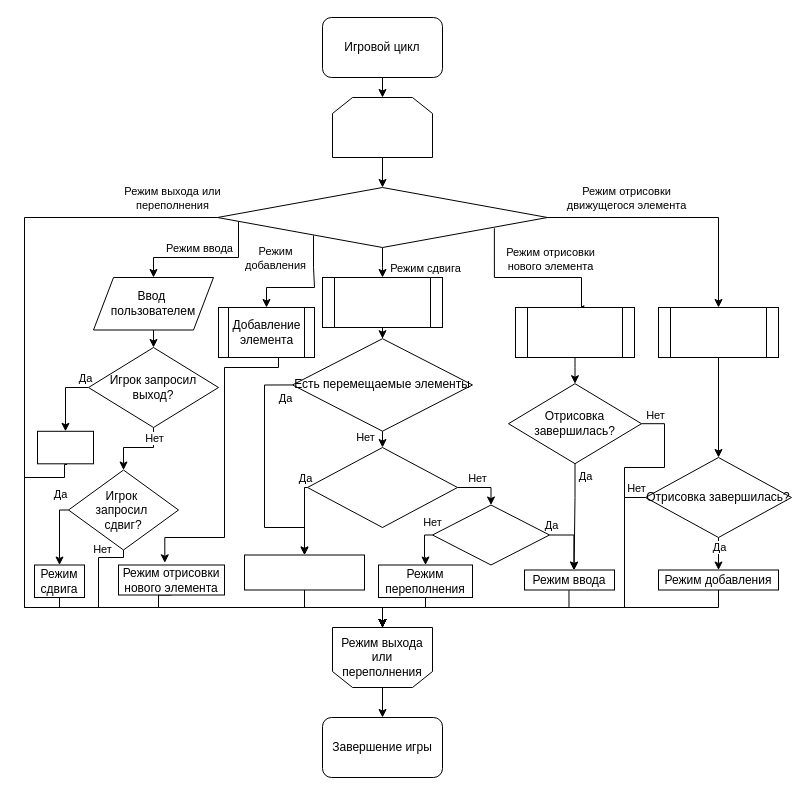
The diagram is 809 pixels wide and 795 high, and some of its shapes have lost their labels. Here are the shapes that lost their labels. From the top down, the centre of each, then its label:
the point at 382,217: Выставленный режим
the point at 382,302: Проверка поля на сдвиг
the point at 574,332: Отрисовка нового элемента
the point at 718,332: Отрисовка движущегося элемента
the point at 65,447: Режим выхода
the point at 382,487: Есть складывае- мые элементы?
the point at 491,534: Есть пустые ячейки?
the point at 304,572: Режим отрисовки движения
